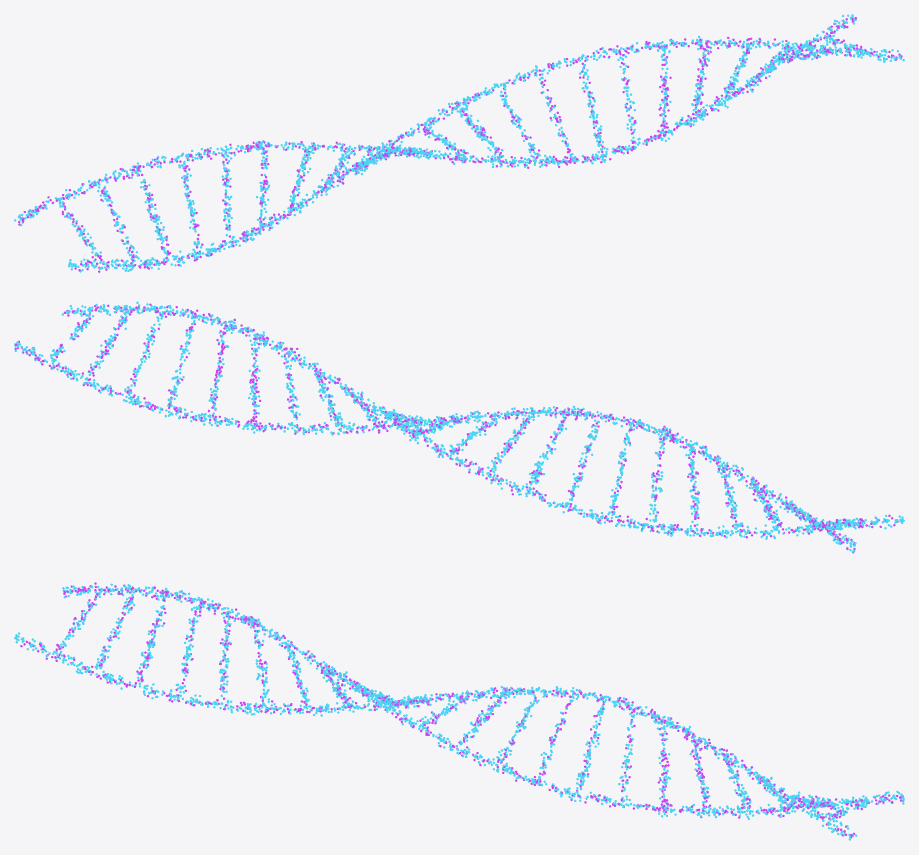
The model's file is dna_hologram_optimized.glb.
3 views of the same model, one above another, from view 1: azimuth 30°, elevation 25°; view 2: azimuth 150°, elevation 25°; view 3: azimuth 330°, elevation 25° (orthographic).
Parts seen in each view (by area): view 1: Sphere.3514_Particle_1_0, Sphere.3514_particle_2_0; view 2: Sphere.3514_Particle_1_0, Sphere.3514_particle_2_0; view 3: Sphere.3514_Particle_1_0, Sphere.3514_particle_2_0.
Boxes of the visible parts, x1,y1,x2,y2 form: Sphere.3514_Particle_1_0: (14,14,904,272); Sphere.3514_particle_2_0: (18,17,902,272); Sphere.3514_Particle_1_0: (14,301,904,552); Sphere.3514_particle_2_0: (14,303,898,553); Sphere.3514_Particle_1_0: (14,583,904,840); Sphere.3514_particle_2_0: (20,582,903,838).
Size of the model in its own units: 0.8733 by 0.1023 by 0.1024.
